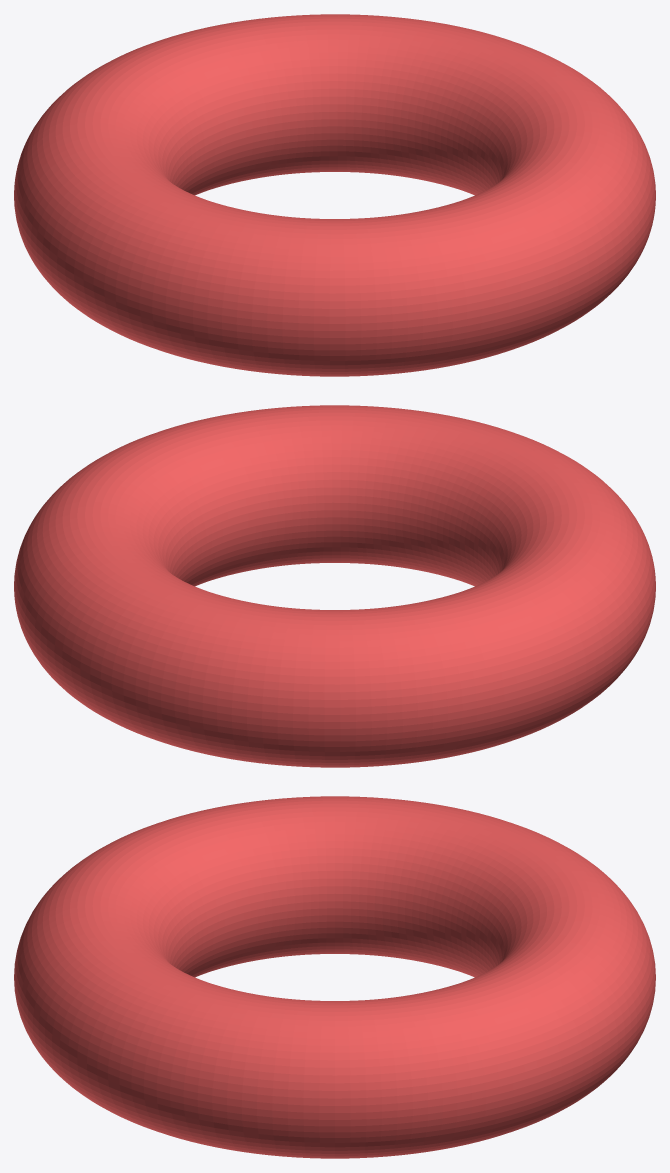
Rendered from Toy_Bumper_Hi.fbx.
3 renders of one model, top to bottom at view 1: azimuth 30°, elevation 25°; view 2: azimuth 150°, elevation 25°; view 3: azimuth 270°, elevation 25°, orthographic.
Visible parts, largest first — view 1: Torus; view 2: Torus; view 3: Torus.
Boxes of the visible parts, x1=… form: Torus: x1=14, y1=14, x2=655, y2=376; Torus: x1=14, y1=405, x2=655, y2=767; Torus: x1=14, y1=796, x2=655, y2=1158.
Size of the model in its own units: 1.46 by 0.3577 by 1.46.
